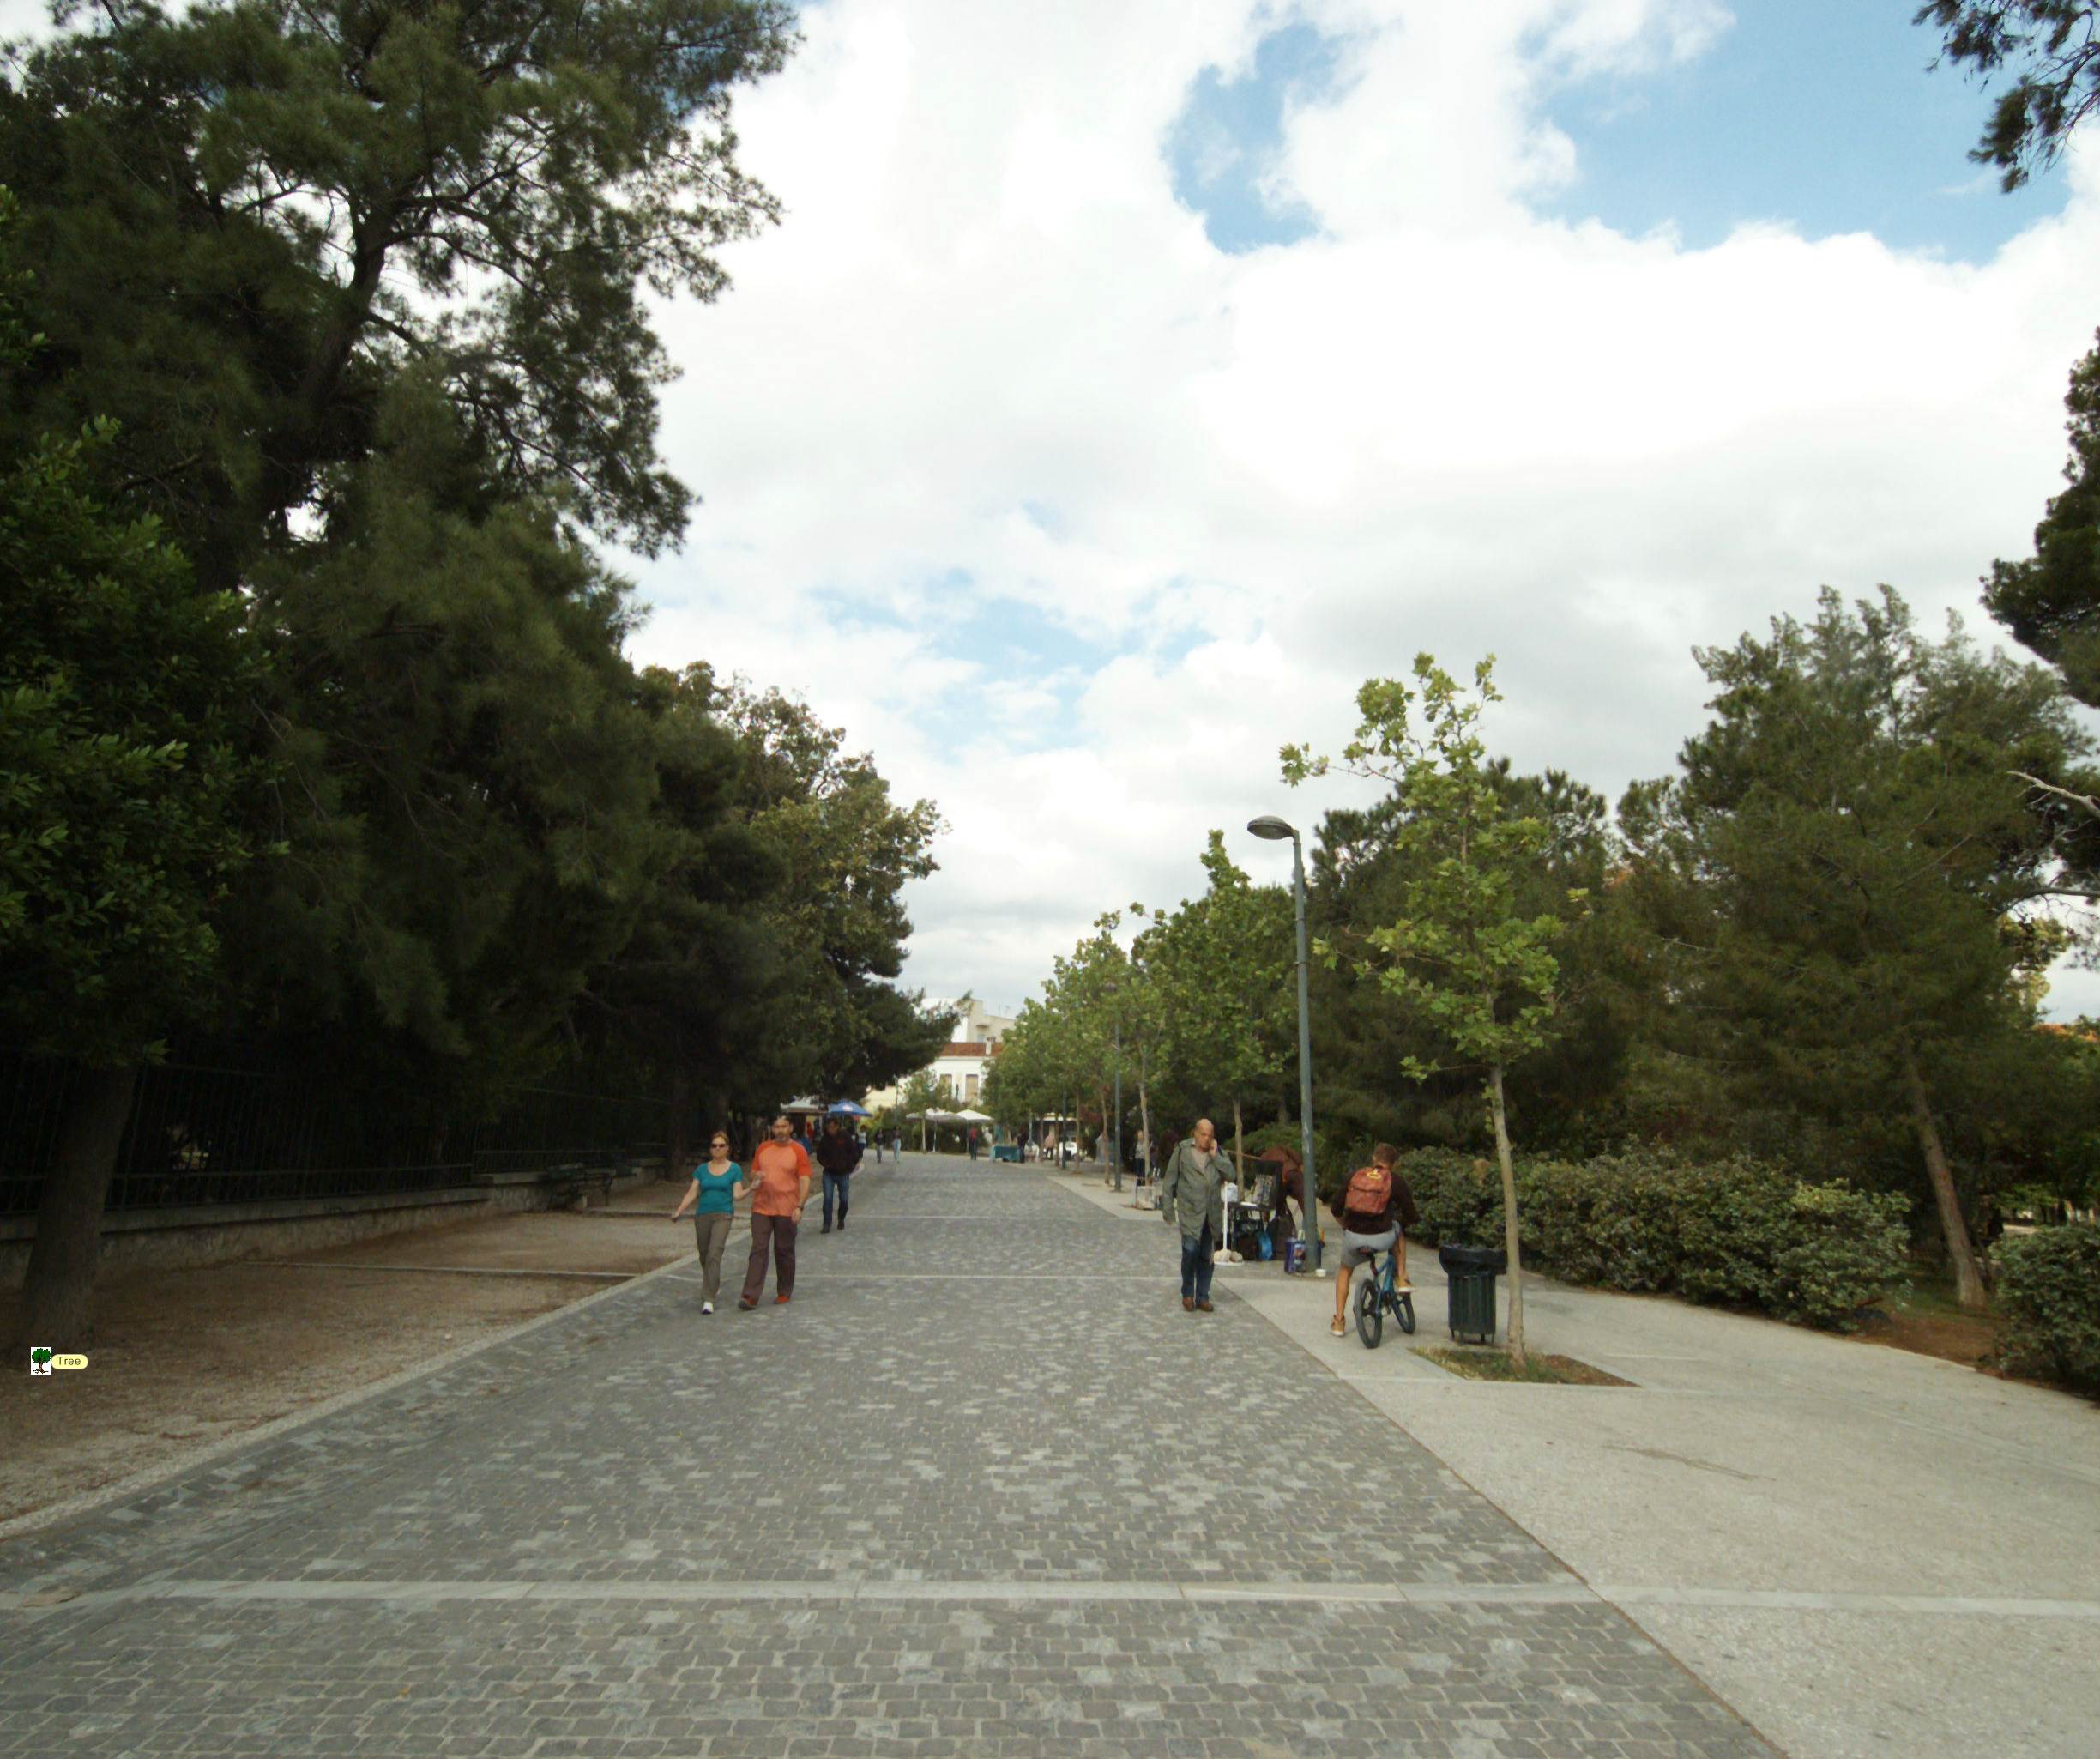tree: (1340, 611, 1683, 1469)
